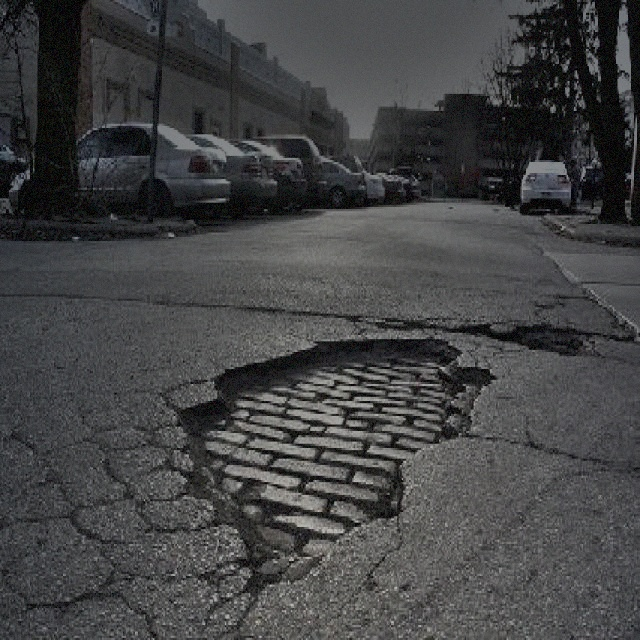pothole: (165, 331, 490, 593), (498, 320, 595, 358)
